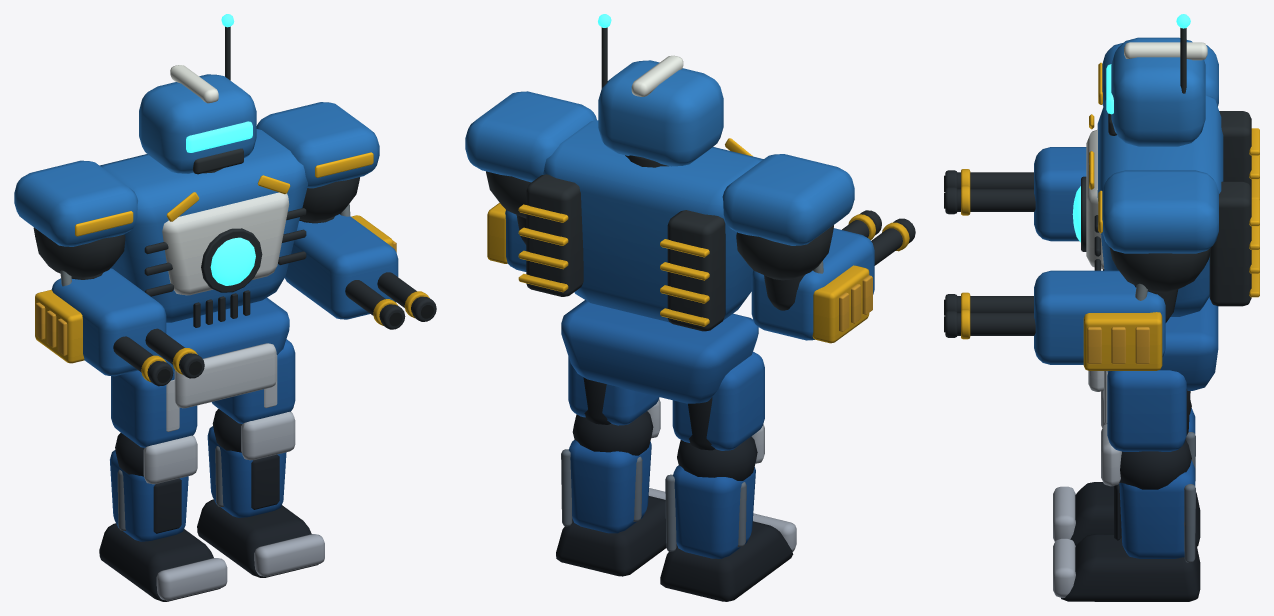
The model's file is quadMech.glb.
3 renders of one model, left to right at view 1: azimuth 30°, elevation 25°; view 2: azimuth 150°, elevation 25°; view 3: azimuth 270°, elevation 25°, orthographic. The views are drawn at different scales.
Parts seen in each view (by area): view 1: Tapered chest, Gun gauntlet.001, Shoulder pauldron, Command helmet, Chest breastplate, Gun gauntlet, Shoulder pauldron.001, Armored pelvis, Armored foot.001, Armored foot, Hip skirt, Thigh armor (+26 smaller); view 2: Tapered chest, Armored pelvis, Command helmet, Shoulder pauldron, Shoulder pauldron.001, Shin armor.001, Shin armor, Armored foot, Rear heat exchanger, Rear heat exchanger.001, Gun gauntlet, Armored foot.001 (+17 smaller); view 3: Shoulder pauldron.001, Command helmet, Gun gauntlet.001, Armored foot.001, Tapered chest, Thigh armor.001, Shin armor.001, Rear heat exchanger.001, Gun gauntlet, Armored pelvis, Belt ammunition.001, Shoulder bearing.001 (+19 smaller).
Part boxes in pixels (bbox=[...]): Tapered chest: bbox=[99, 129, 307, 322]; Gun gauntlet.001: bbox=[285, 214, 398, 319]; Shoulder pauldron: bbox=[14, 160, 137, 246]; Command helmet: bbox=[139, 74, 256, 173]; Chest breastplate: bbox=[162, 192, 289, 295]; Gun gauntlet: bbox=[51, 268, 166, 376]; Shoulder pauldron.001: bbox=[256, 102, 379, 188]; Armored pelvis: bbox=[164, 298, 289, 380]; Armored foot.001: bbox=[197, 499, 318, 577]; Armored foot: bbox=[99, 523, 220, 601]; Hip skirt: bbox=[174, 343, 276, 408]; Thigh armor: bbox=[111, 370, 197, 447]; Tapered chest: bbox=[542, 120, 763, 322]; Armored pelvis: bbox=[561, 300, 758, 403]; Command helmet: bbox=[598, 60, 723, 166]; Shoulder pauldron: bbox=[722, 154, 854, 245]; Shoulder pauldron.001: bbox=[465, 91, 596, 182]; Shin armor.001: bbox=[569, 440, 651, 533]; Shin armor: bbox=[673, 465, 755, 558]; Armored foot: bbox=[660, 521, 793, 601]; Rear heat exchanger: bbox=[667, 210, 725, 331]; Rear heat exchanger.001: bbox=[526, 174, 583, 296]; Gun gauntlet: bbox=[751, 228, 874, 340]; Armored foot.001: bbox=[556, 496, 666, 576]; Shoulder pauldron.001: bbox=[1102, 170, 1218, 253]; Command helmet: bbox=[1111, 37, 1205, 146]; Gun gauntlet.001: bbox=[1034, 270, 1165, 364]; Armored foot.001: bbox=[1061, 534, 1200, 601]; Tapered chest: bbox=[1097, 95, 1223, 316]; Thigh armor.001: bbox=[1107, 370, 1186, 451]; Shin armor.001: bbox=[1119, 460, 1195, 558]; Rear heat exchanger.001: bbox=[1209, 181, 1251, 306]; Gun gauntlet: bbox=[1034, 147, 1086, 241]; Armored pelvis: bbox=[1107, 297, 1218, 390]; Belt ammunition.001: bbox=[1083, 312, 1162, 370]; Shoulder bearing.001: bbox=[1109, 247, 1211, 292].
Size of the model in its own units: 4.03 by 6 by 3.02.
8 materials, 6 textured.
